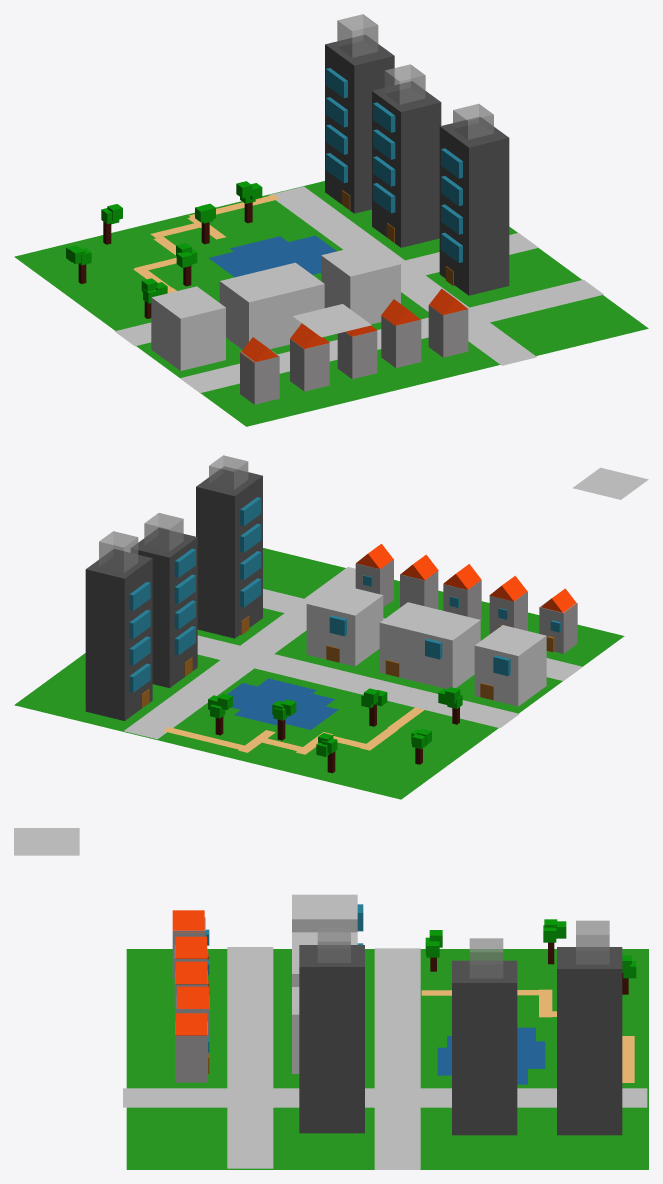
The model's file is town.obj.
3 views of the same model, one above another, from view 1: azimuth 30°, elevation 25°; view 2: azimuth 150°, elevation 25°; view 3: azimuth 270°, elevation 25° (orthographic). The views are drawn at different scales.
Visible parts, largest first — view 1: Plane, Cube.036, Cube.034, Cube.035, Cube.038, Plane.003, Cube.039, Cube.037, Plane.002, Cube.001_Cube.002, Cube_Cube.001, Cube.004_Cube.005 (+10 smaller); view 2: Plane, Cube.035, Cube.036, Cube.038, Plane.003, Cube.034, Plane.001, Cube.037, Cube.039, Plane.002, Cube.040, Plane.017 (+14 smaller); view 3: Plane, Cube.036, Cube.035, Cube.034, Plane.002, Plane.001, Plane.003, Cube.039, Plane.017, Cube.001_Cube.002, Cube.040, Cube.041 (+9 smaller).
Part boxes in pixels (x1,y1,x2,y2): Plane: (14,181,648,426); Cube.036: (439,117,509,295); Cube.034: (372,81,441,247); Cube.035: (325,35,394,213); Cube.038: (219,262,324,349); Plane.003: (269,186,536,365); Cube.039: (151,286,225,370); Cube.037: (321,243,400,324); Plane.002: (180,279,603,392); Cube.001_Cube.002: (428,305,468,357); Cube_Cube.001: (381,316,421,367); Cube.004_Cube.005: (240,347,279,404); Plane: (14,548,624,799); Cube.035: (85,549,152,720); Cube.036: (196,466,262,638); Cube.038: (379,602,480,689); Plane.003: (124,567,355,739); Cube.034: (131,528,197,687); Plane.001: (197,635,519,727); Cube.037: (306,583,383,666); Cube.039: (474,625,546,706); Plane.002: (263,589,582,680); Cube.040: (99,531,138,572); Plane.017: (572,467,648,499); Plane: (126,949,648,1169); Cube.036: (299,945,364,1133); Cube.035: (557,947,622,1135); Cube.034: (452,960,517,1135); Plane.002: (227,947,273,1168); Plane.001: (374,948,420,1169); Plane.003: (123,1088,647,1107); Cube.039: (292,894,357,932); Plane.017: (14,828,79,855); Cube.001_Cube.002: (175,1021,207,1082); Cube.040: (576,920,609,964); Cube.041: (469,938,503,978).
Size of the model in its own units: 16.01 by 7.07 by 19.38.
